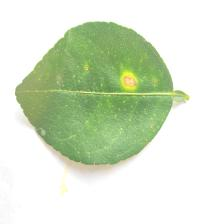canker: (94, 54, 143, 100)
